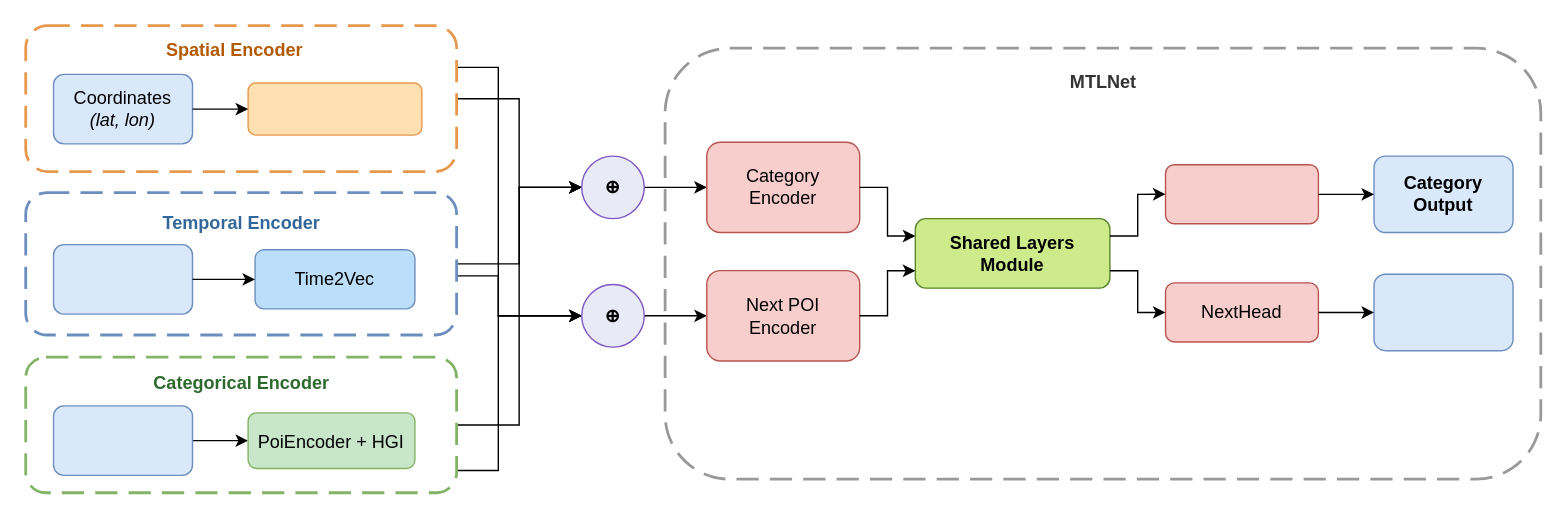
Image size: 1565x517. Some labels were removed from this diagram. Here are the shapes that lost their labels. From the top down, the centre of each, then its label:
At point (334, 108): "Location Encoder".
At point (1241, 193): "CategoryHead".
At point (122, 278): "Timestamps (hour, day)".
At point (1443, 312): "Next POI Output".
At point (122, 439): "Categories (POI graph)".
